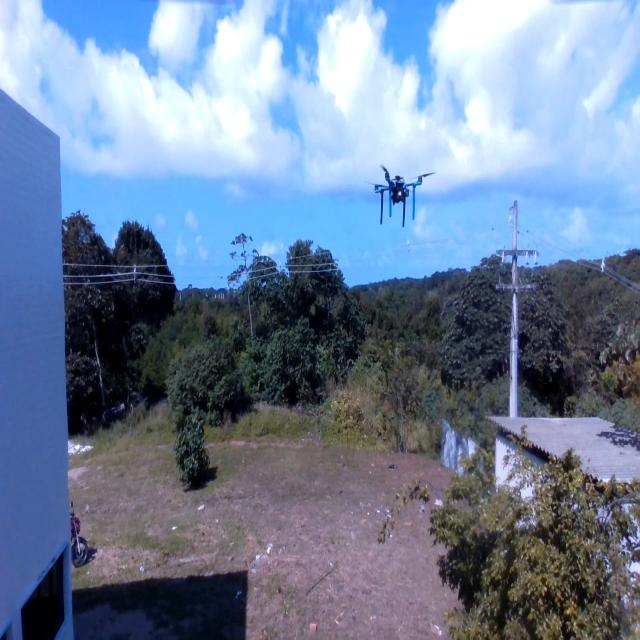-uav-: (360, 148, 440, 234)
